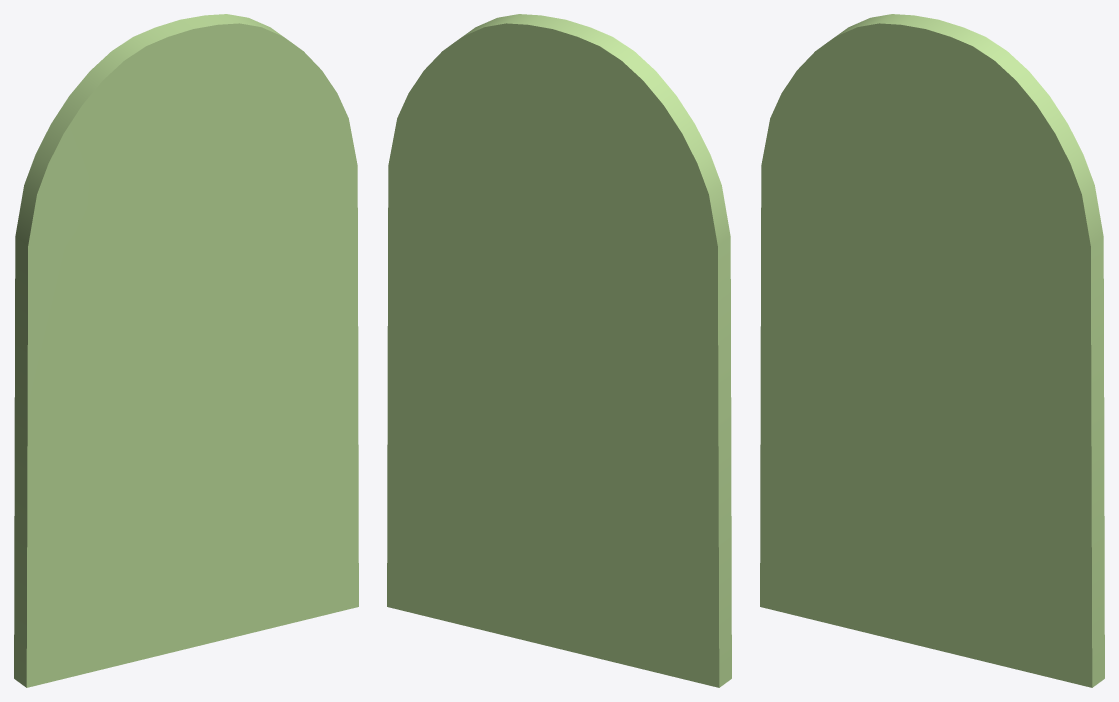
Rendered from EntranceWall.fbx.
The picture shows the model from 3 angles, left to right: view 1: azimuth 30°, elevation 25°; view 2: azimuth 150°, elevation 25°; view 3: azimuth 330°, elevation 25°; orthographic projection.
Visible parts, largest first — view 1: EntranceWall; view 2: EntranceWall; view 3: EntranceWall.
Part boxes in pixels (x1,y1,x2,y2): EntranceWall: (14, 14, 358, 687); EntranceWall: (387, 14, 731, 687); EntranceWall: (760, 14, 1104, 687).
Size of the model in its own units: 342 by 607 by 22.93.
